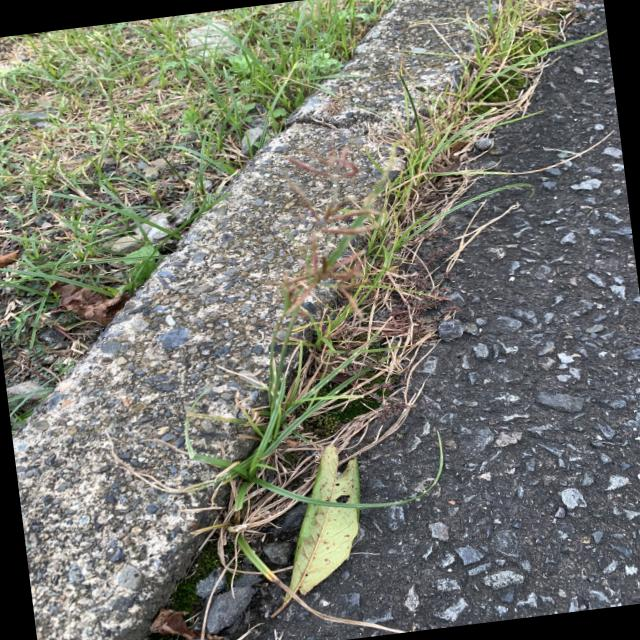cyperus: (247, 128, 406, 328)
